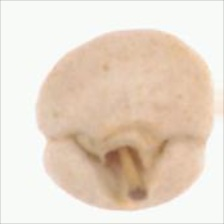L3: (90, 124, 164, 202)
L4: (36, 30, 211, 211)
